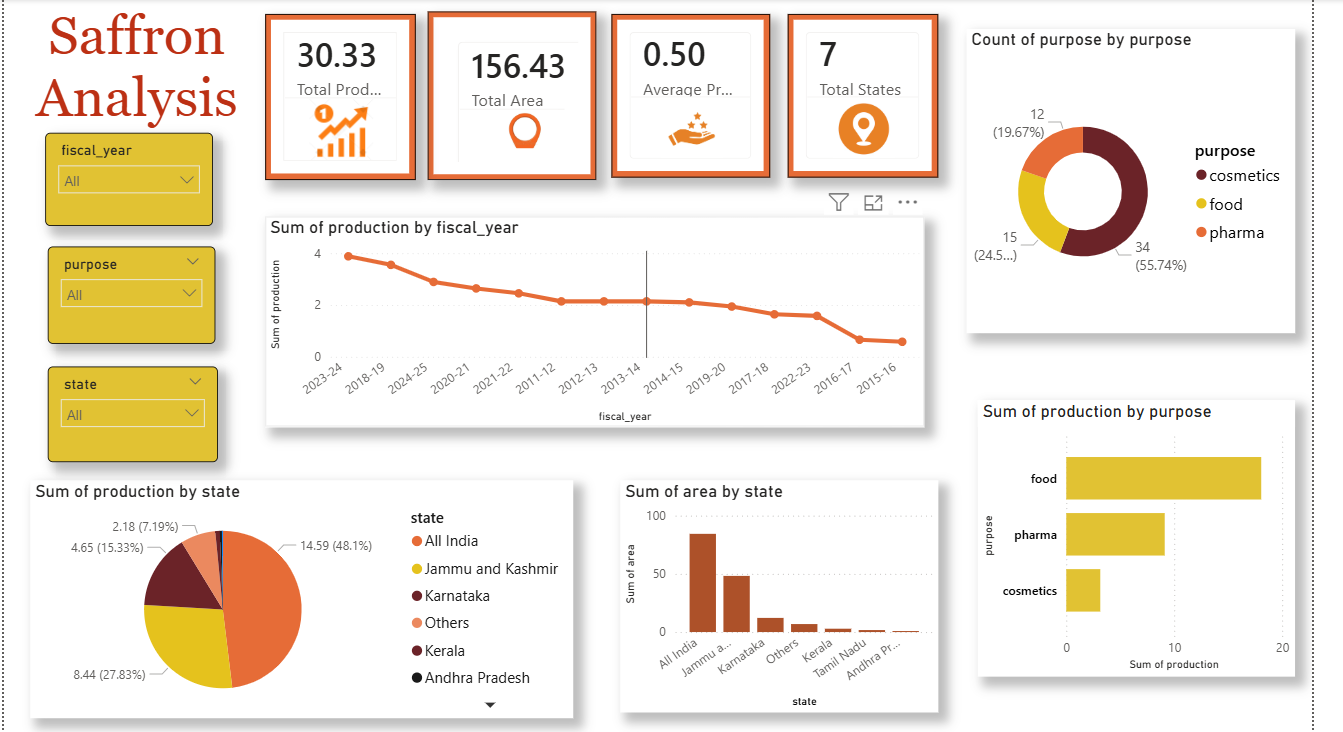

This screenshot's page, from the dashboard's own definition file:
{"tool":"powerbi","page":{"name":"Page 1","canvas":[1280,720],"ordinal":0},"visuals":[{"type":"donutChart","fields":{"Category":["saffron data.purpose"],"Y":["CountNonNull(saffron data.purpose)"]},"box":[941.2,28.8,321.2,297.5],"z":0},{"type":"lineChart","fields":{"Category":["saffron data.fiscal_year"],"Y":["Sum(saffron data.production)"]},"box":[255,212.5,645,206.2],"z":1000},{"type":"pieChart","fields":{"Y":["Sum(saffron data.production)"],"Category":["saffron data.state"]},"box":[26.2,471.2,531.2,232.5],"z":2000},{"type":"clusteredColumnChart","fields":{"Category":["saffron data.state"],"Y":["Sum(saffron data.area)"]},"box":[602.5,471.2,311.2,227.5],"z":3000},{"type":"cardVisual","fields":{"Data":["saffron data.Total Area"]},"box":[415,12.5,165,165],"z":4000},{"type":"cardVisual","fields":{"Data":["saffron data.Total Production"]},"box":[255,15,147.5,162.5],"z":5000},{"type":"cardVisual","fields":{"Data":["saffron data.Average Production"]},"box":[593.8,15,155,160],"z":6000},{"type":"cardVisual","fields":{"Data":["saffron data.Total States"]},"box":[766.2,15,147.5,160],"z":7000},{"type":"textbox","box":[1.2,0,257.5,151.2],"z":8000},{"type":"clusteredBarChart","fields":{"Category":["saffron data.purpose"],"Y":["Sum(saffron data.production)"]},"box":[952.5,392.5,310,270],"z":9000},{"type":"slicer","fields":{"Values":["saffron data.fiscal_year"]},"box":[40,131.2,163.8,91.2],"z":10000},{"type":"slicer","fields":{"Values":["saffron data.state"]},"box":[42.5,360,166.2,93.8],"z":12000},{"type":"slicer","fields":{"Values":["saffron data.purpose"]},"box":[42.5,242.5,163.8,95],"z":12001}]}

Visuals, with their boxes in screenshot pixels (x1, y1, x2, y2):
donutChart - saffron data.purpose x CountNonNull(saffron data.purpose): 973/26/1307/335
lineChart - saffron data.fiscal_year x Sum(saffron data.production): 261/217/931/431
pieChart - Sum(saffron data.production) x saffron data.state: 24/486/575/727
clusteredColumnChart - saffron data.state x Sum(saffron data.area): 622/486/945/722
cardVisual - saffron data.Total Area: 427/9/599/181
cardVisual - saffron data.Total Production: 261/12/414/181
cardVisual - saffron data.Average Production: 613/12/774/178
cardVisual - saffron data.Total States: 792/12/945/178
textbox: 0/0/265/153
clusteredBarChart - saffron data.purpose x Sum(saffron data.production): 985/404/1307/684
slicer - saffron data.fiscal_year: 38/133/208/227
slicer - saffron data.state: 41/370/213/468
slicer - saffron data.purpose: 41/248/211/347
